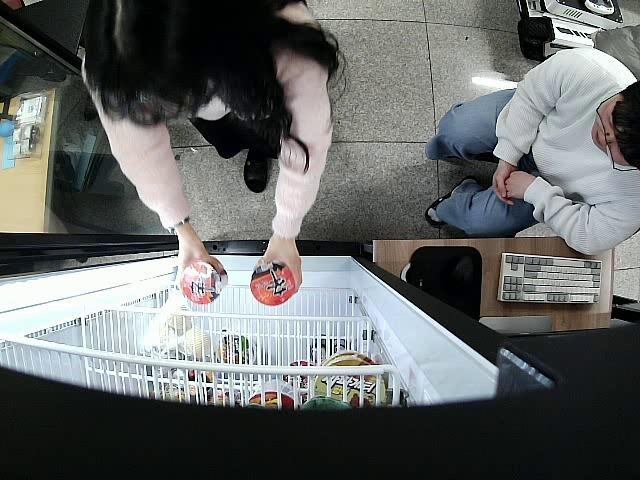02_shinRamen_S: (180, 258, 228, 304), (250, 259, 296, 306)
